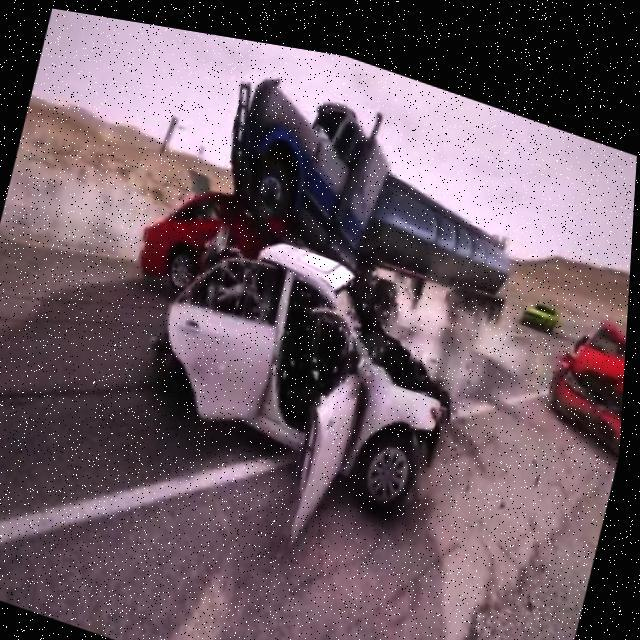Car Accident Detector - v4 Generation1 Exported: (89, 74, 532, 540)
